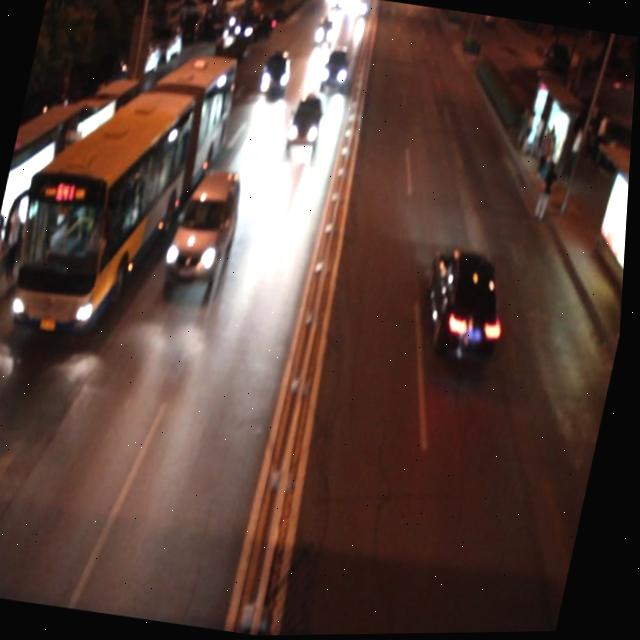car: (419, 245, 519, 368), (285, 92, 329, 155), (257, 49, 295, 102), (318, 46, 356, 94), (311, 15, 339, 51)
truck: (165, 162, 251, 290)
van: (1, 28, 237, 350)
